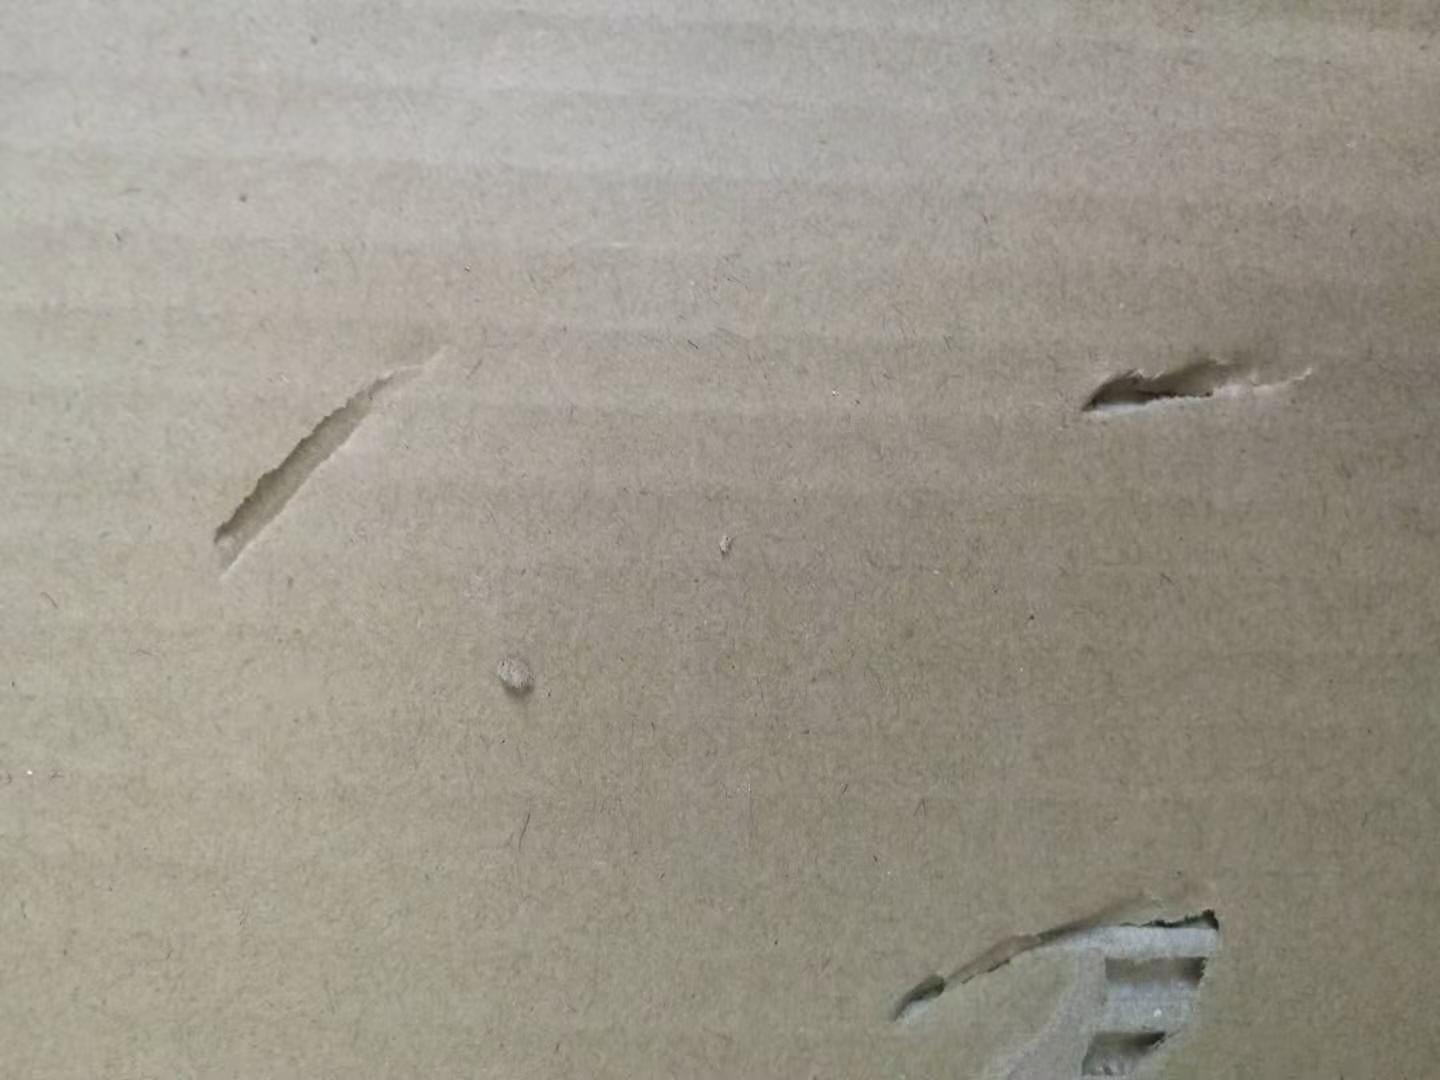defect: (856, 839, 1311, 1080), (188, 313, 481, 600), (1048, 311, 1352, 434)
